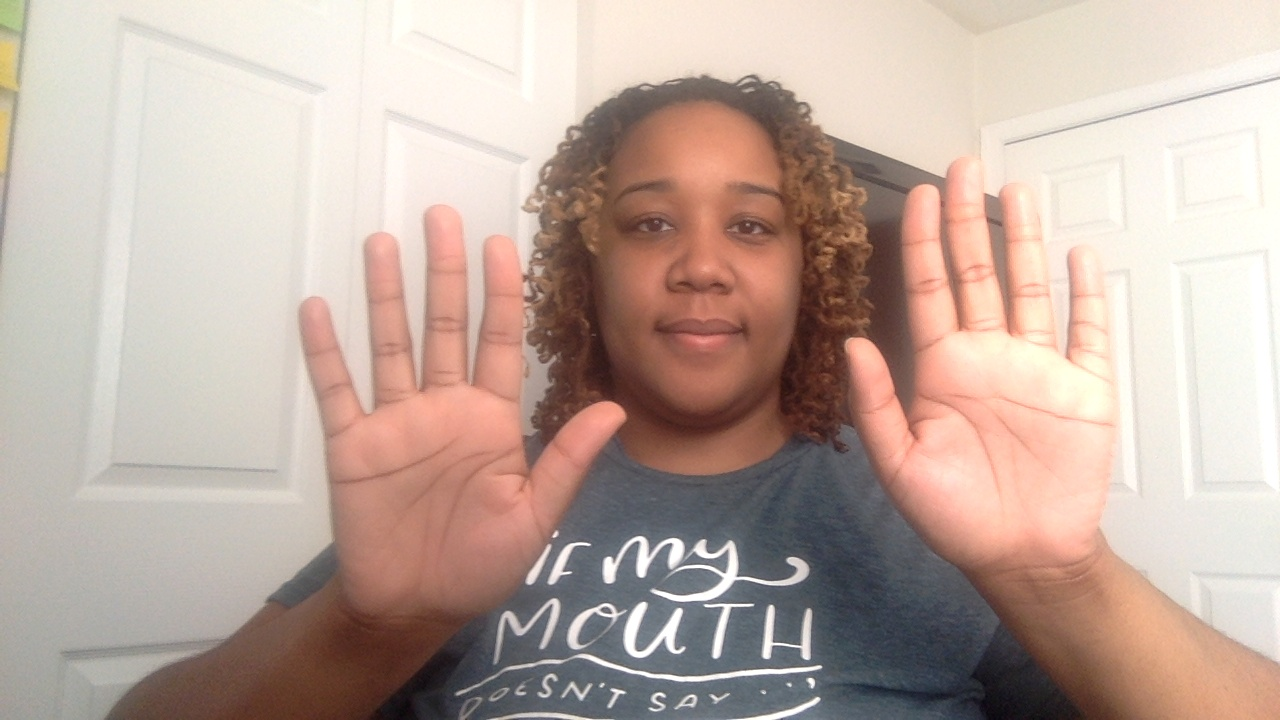great: (296, 74, 1132, 633)
